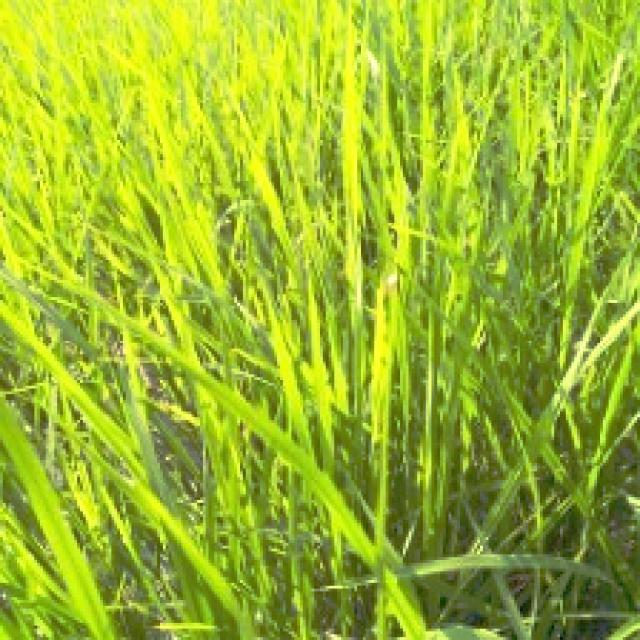health: (0, 259, 196, 640)
